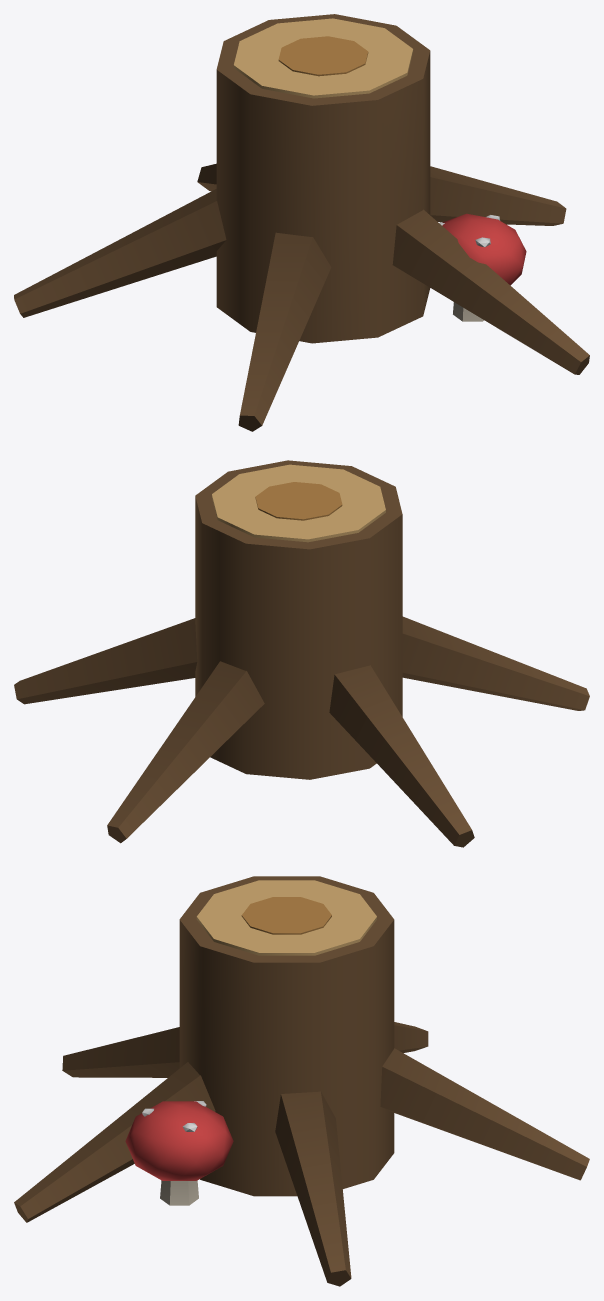
The model's file is cv_wurzel_deco_2.glb.
3 views of the same model, one above another, from view 1: azimuth 30°, elevation 25°; view 2: azimuth 150°, elevation 25°; view 3: azimuth 270°, elevation 25° (orthographic). The views are drawn at different scales.
Parts seen in each view (by area): view 1: body; view 2: body; view 3: body.
Boxes of the visible parts, box(x1,y1,x2,y2) form: body: box(14, 14, 589, 431); body: box(14, 460, 589, 847); body: box(14, 876, 589, 1286).
Size of the model in its own units: 2.69 by 1.28 by 2.68.
